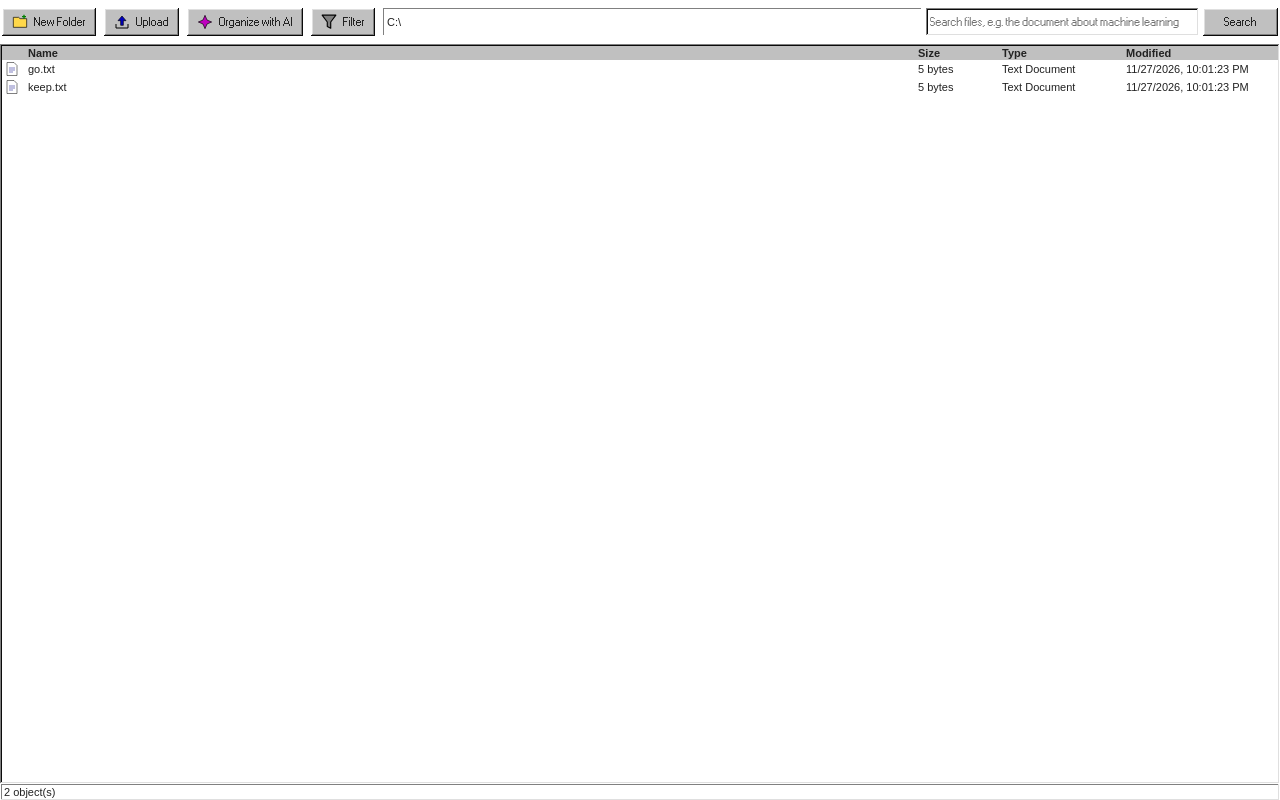
Test: Explorer › organizes with AI: decline moves nothing, confirm moves the checked files
Expected: the text "2 object(s)" is shown, [1,784,1279,799]
Expected: the option "go.txt 5 bytes Text Document 11/27/2026, 10:01:23 PM" is shown, [2,60,1278,78]
Click the button "Organize with AI" at [245, 22], box [187,8,303,36]
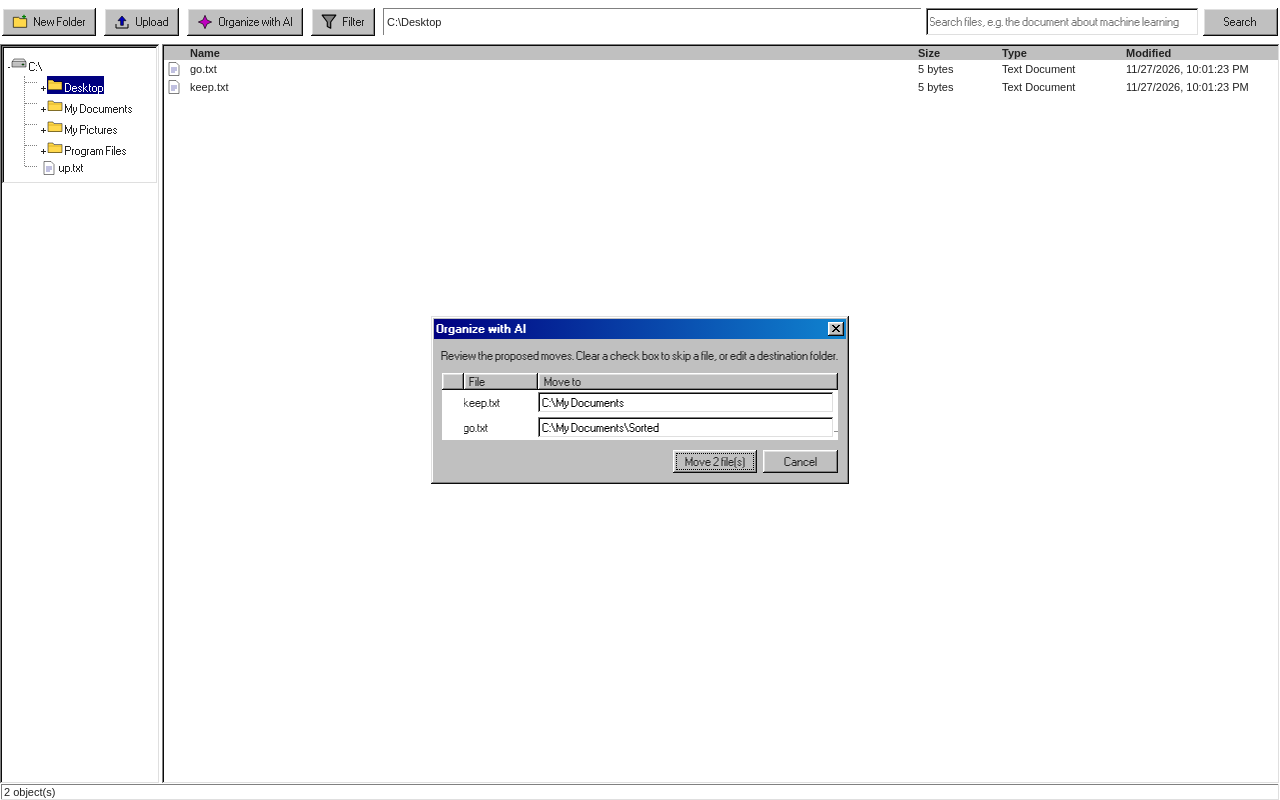
Expected: the field named "Destination for go.txt" is shown, [538,417,834,438]
Expected: the dialog "Organize with AI" shows "(new folder)", [834,422,890,434]
Click the button "Cancel" at [801, 462], box [763,450,838,473]
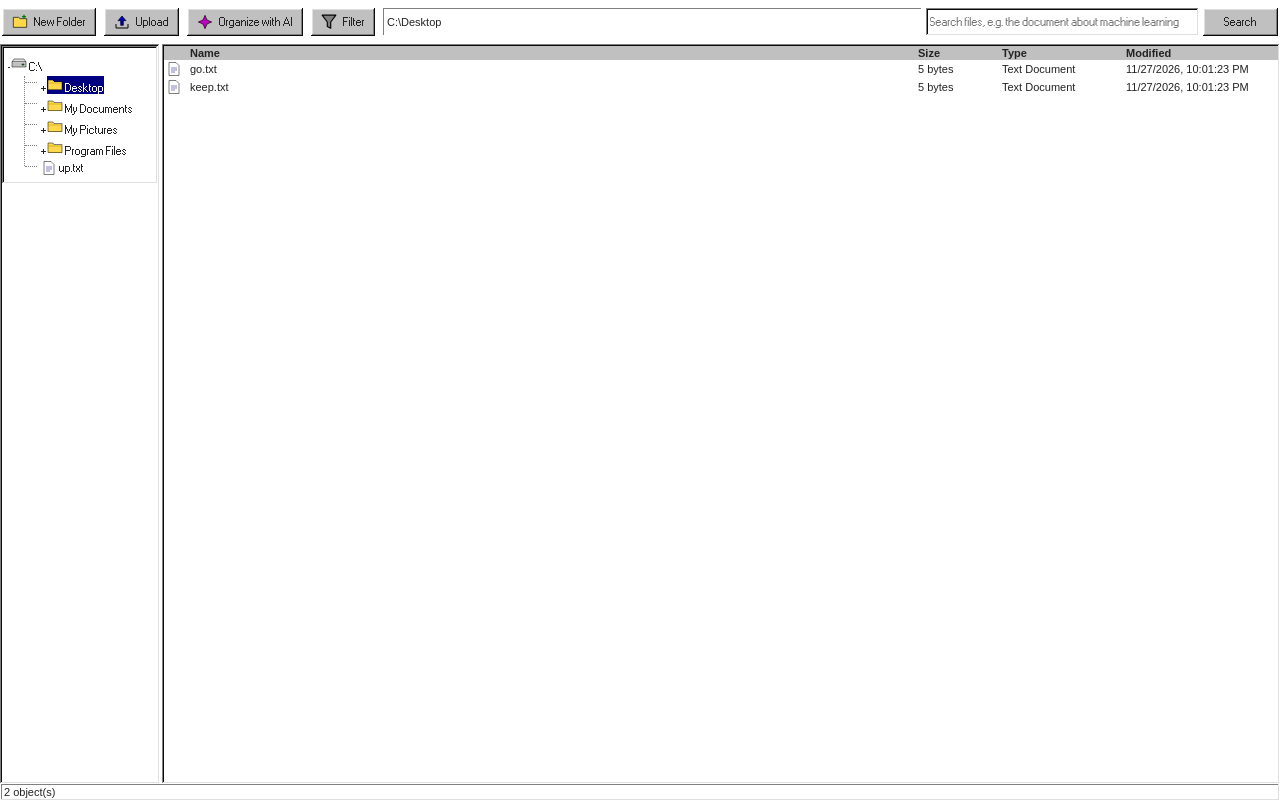
Click the button "Organize with AI" at [245, 22], box [187,8,303,36]
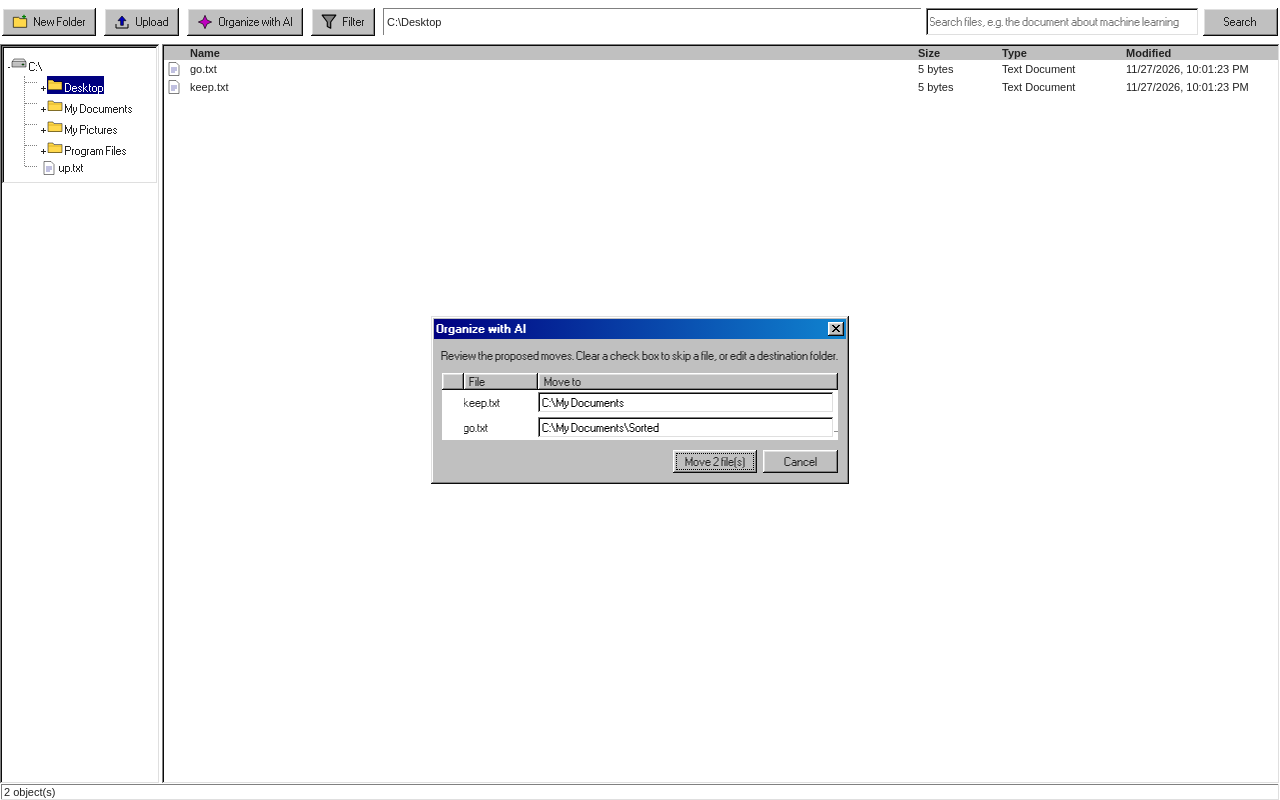
Click the checkbox named "Move keep.txt" at [453, 402], box [442,390,464,415]
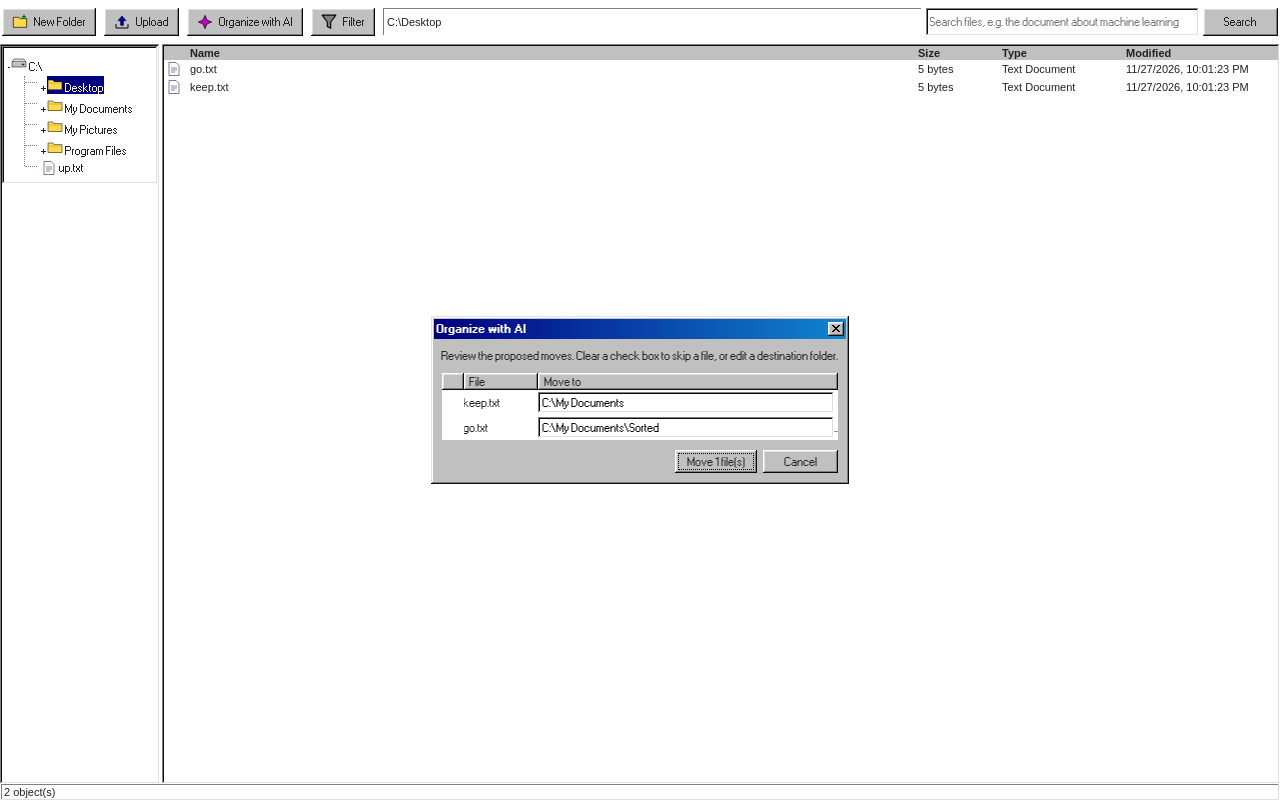
Click the button "Move 1 file(s)" at [716, 462], box [675,450,757,473]
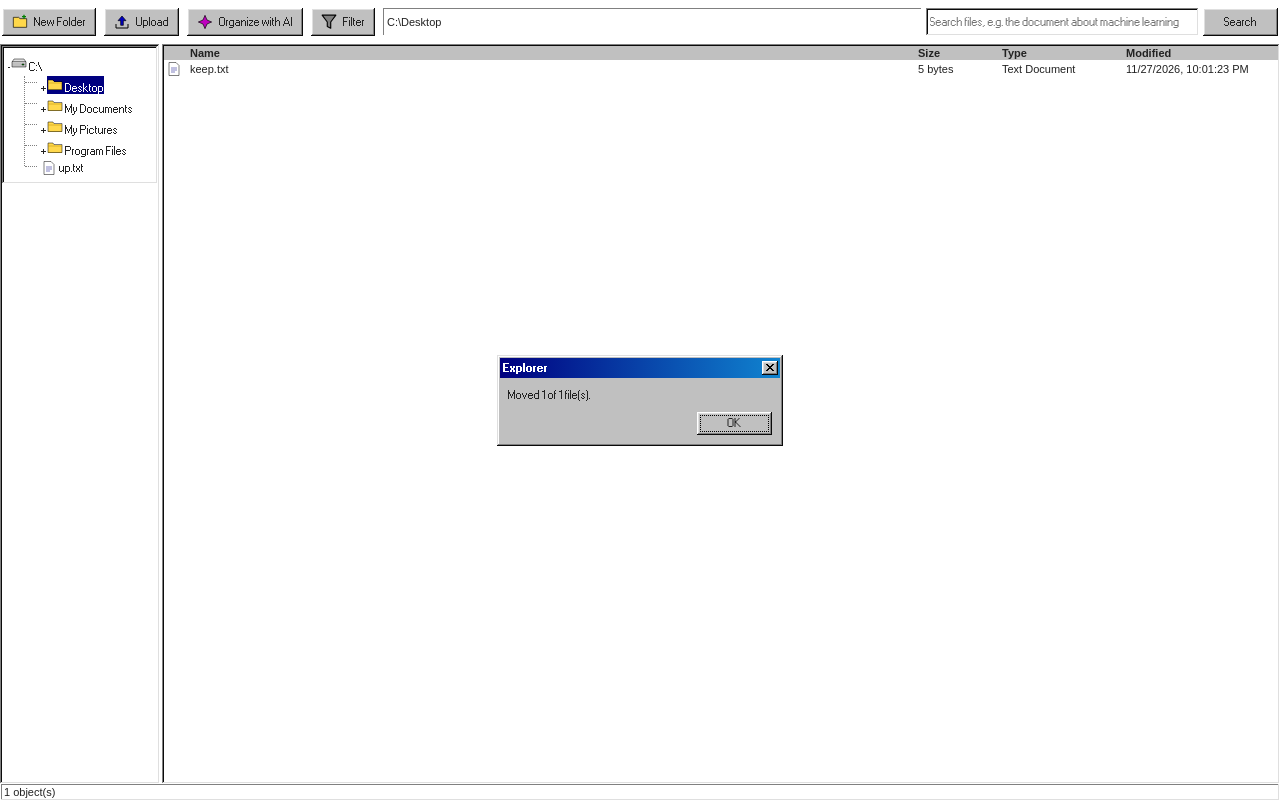
Expected: the option "go.txt" is gone
Expected: the dialog "Explorer" shows "Moved 1 of 1", [508,388,591,400]
